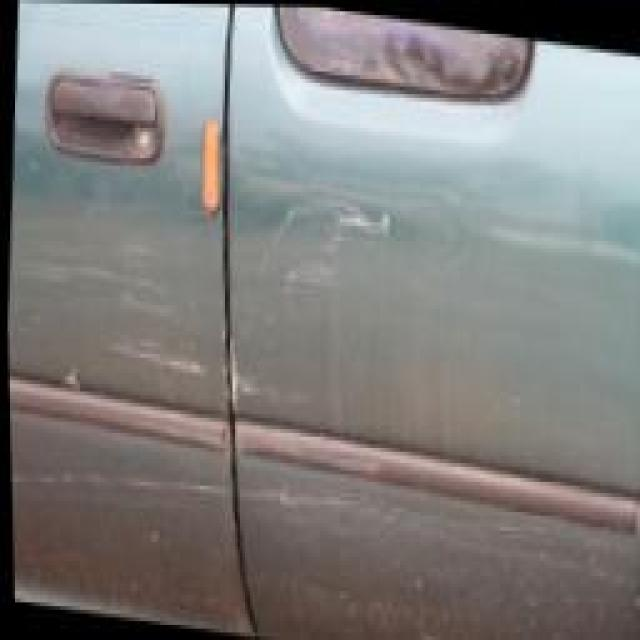Door: (0, 19, 640, 640)
